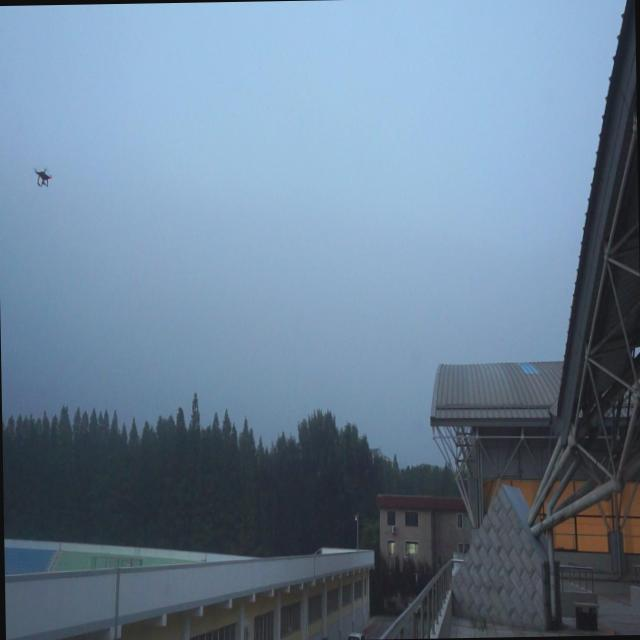drone: (31, 166, 54, 192)
